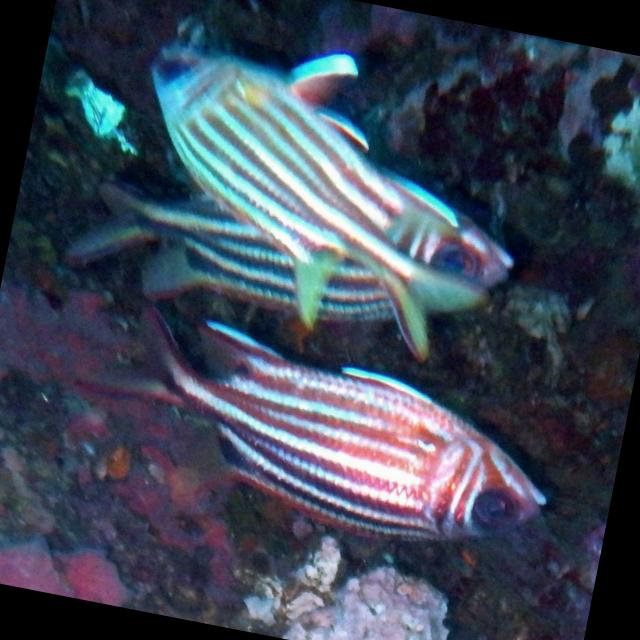Asker Baligi: (91, 10, 550, 379), (56, 292, 572, 572)
